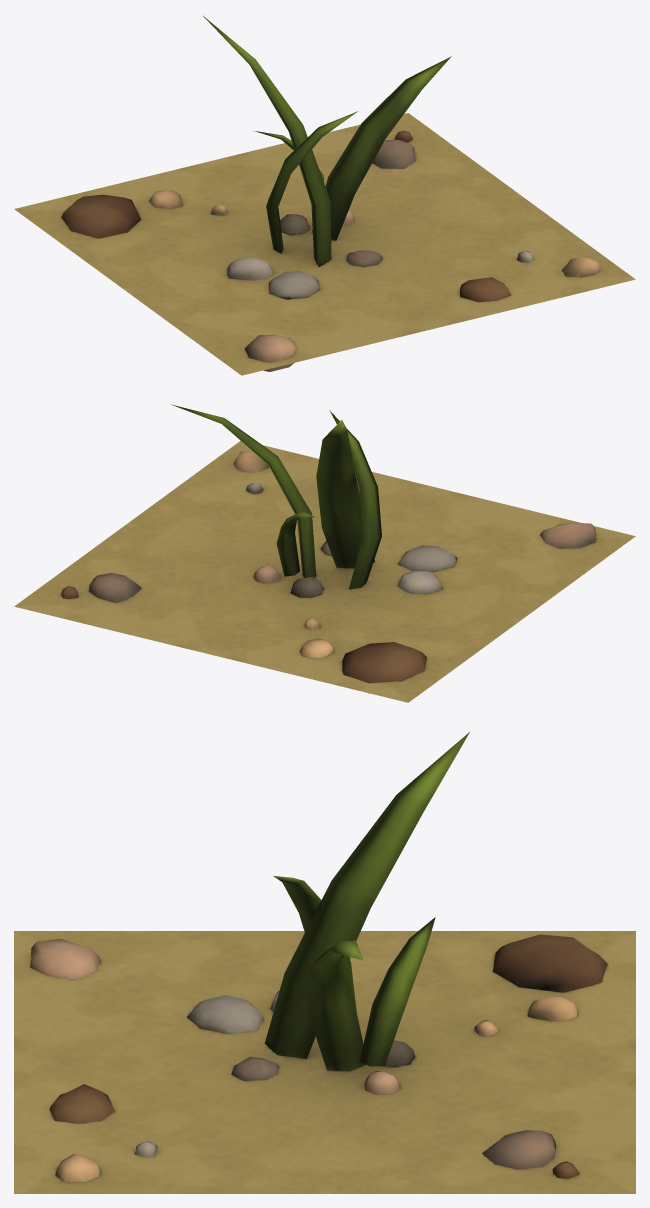
File: [-Sol_Cailloux3.FBX
3 renders of one model, top to bottom at view 1: azimuth 30°, elevation 25°; view 2: azimuth 150°, elevation 25°; view 3: azimuth 270°, elevation 25°, orthographic. The views are drawn at different scales.
Visible parts, largest first — view 1: [Sol_Cailloux3; view 2: [Sol_Cailloux3; view 3: [Sol_Cailloux3.
Part boxes in pixels (<box>): [Sol_Cailloux3: <box>14,16,635,375</box>; [Sol_Cailloux3: <box>14,404,635,702</box>; [Sol_Cailloux3: <box>14,732,635,1193</box>.
Size of the model in its own units: 2 by 1.18 by 2.
